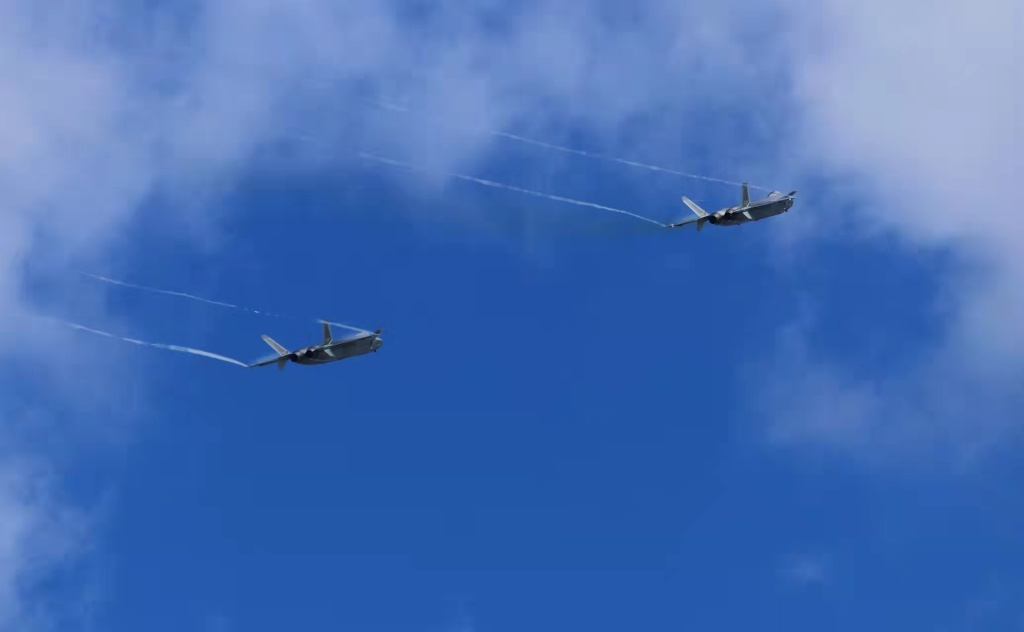J20: (246, 318, 384, 372), (662, 181, 798, 233)
